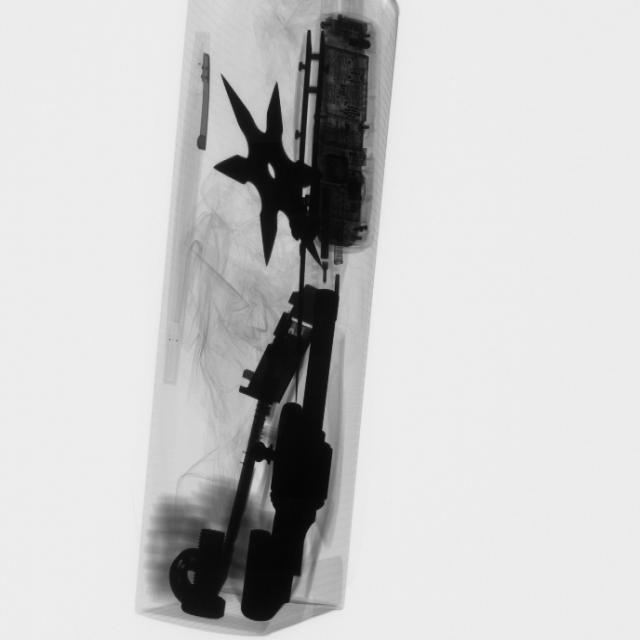GUN: (264, 285, 342, 621)
SHURIKEN: (219, 74, 326, 267)
